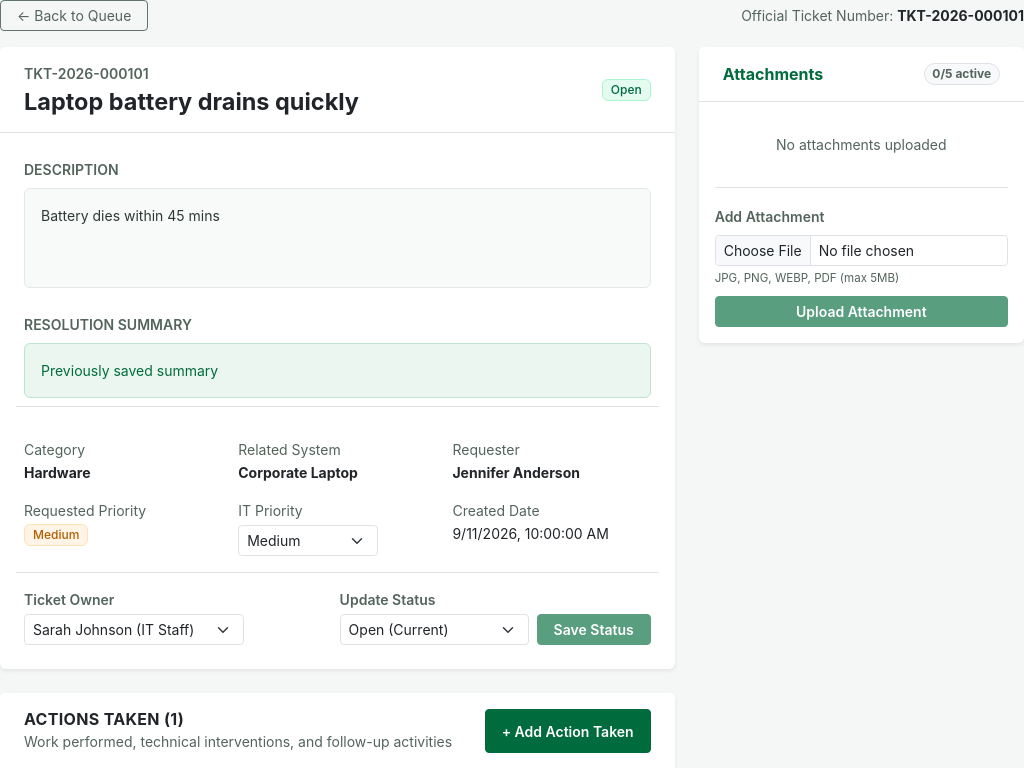
Lab 4 / UI-08: Ticket Workflow, Resolution Gate & Concurrency Control › preserves the resolution modal and unsaved summary after a 409 refresh
The width and height of the screenshot is (1024, 768).
Select "Resolved" in the dropdown named "Ticket Status" at [434, 630], box x1=340 y1=614 x2=529 y2=645
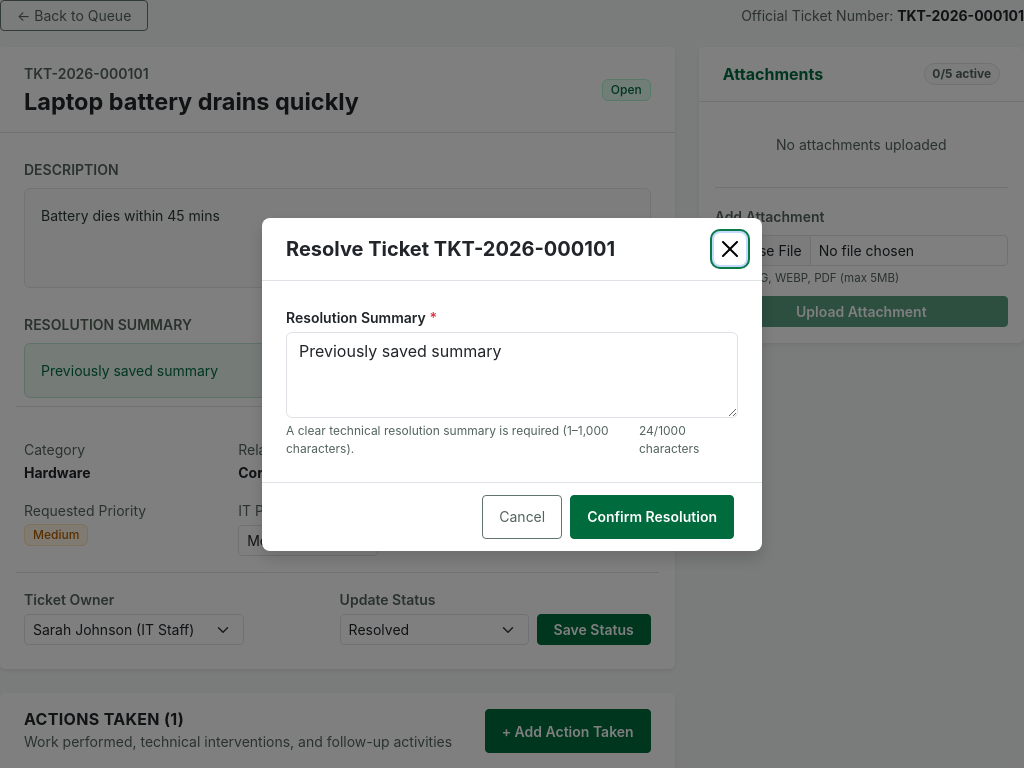
Replace the text in the text box labelled "Resolution Summary" with "Unsaved diagnostic draft" at [512, 374], box x1=286 y1=332 x2=738 y2=418
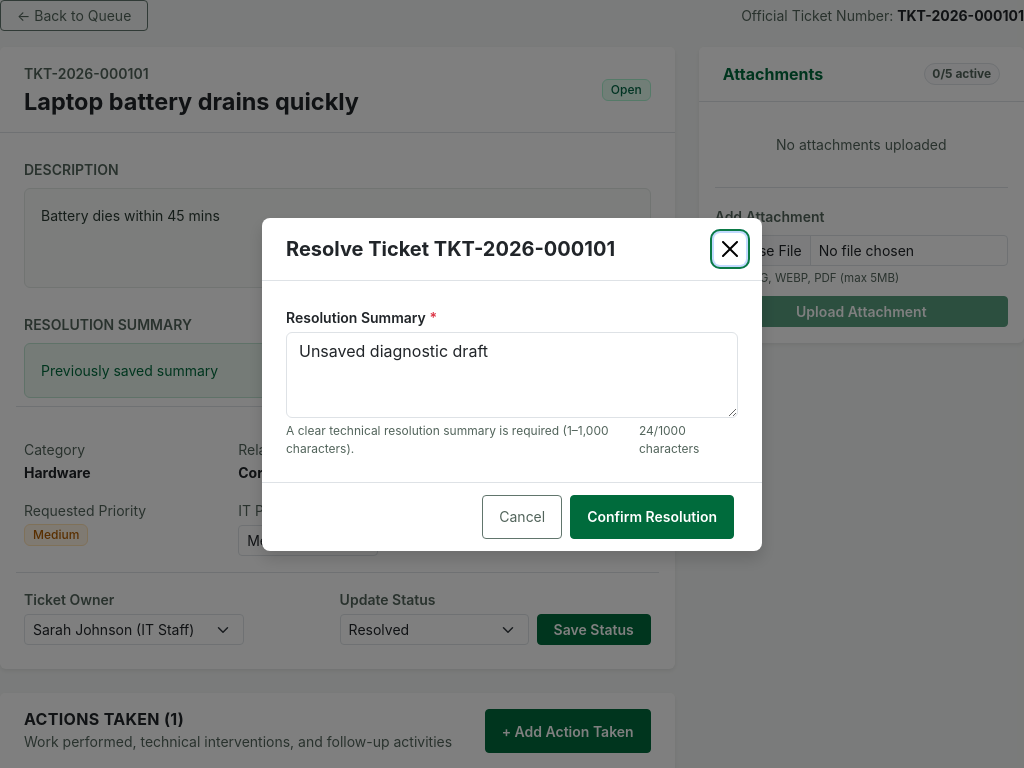
Click the button "Confirm Resolution".
click(652, 516)  # box x1=570 y1=494 x2=734 y2=538
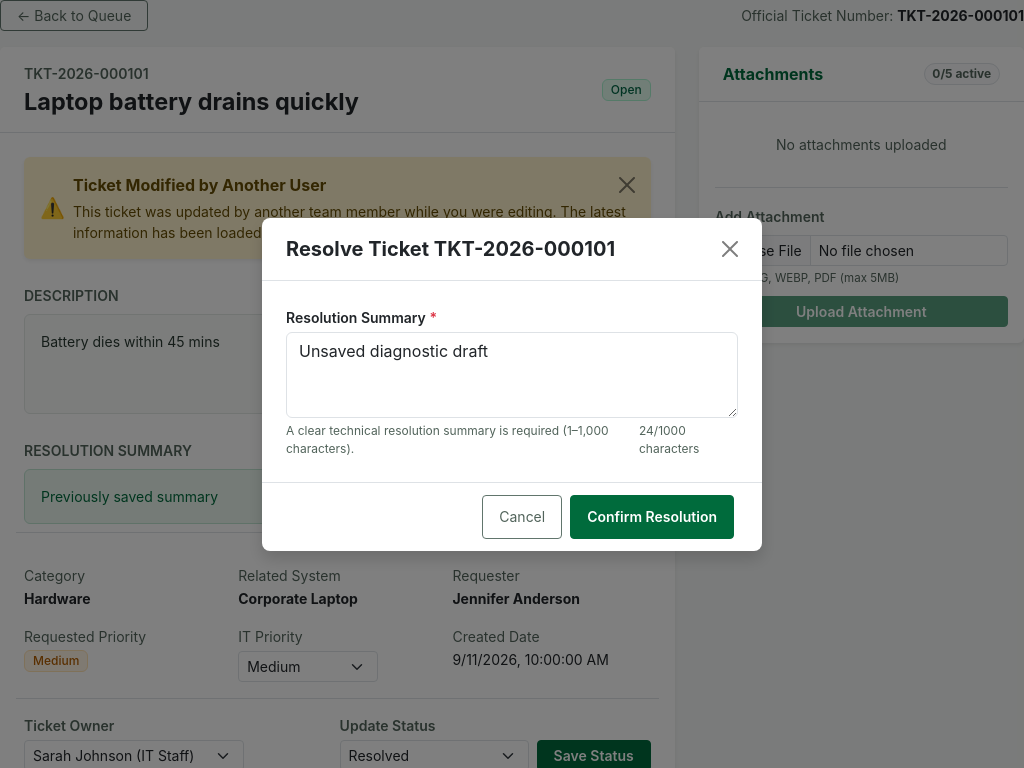
Expected: the dialog is shown
Expected: the message with test id "concurrency-conflict-banner" is shown, x1=24 y1=157 x2=651 y2=259
